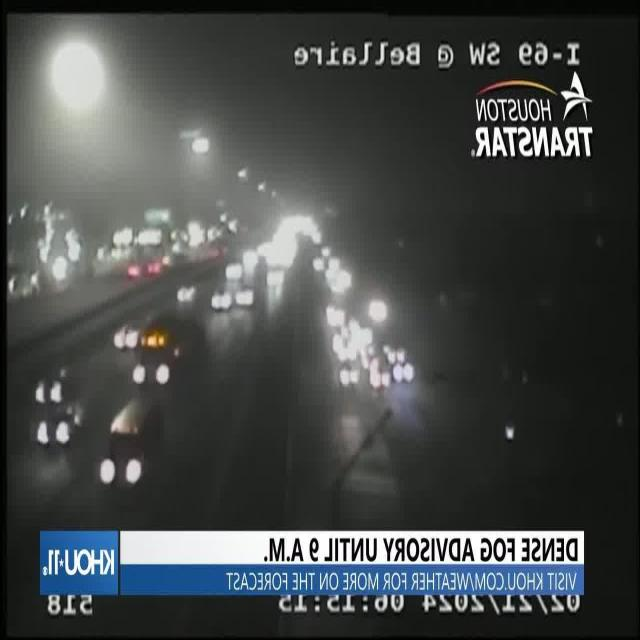Bus: (132, 315, 203, 388)
Car: (34, 406, 76, 448), (32, 368, 70, 408), (338, 360, 359, 386)
Van: (100, 397, 160, 498)
